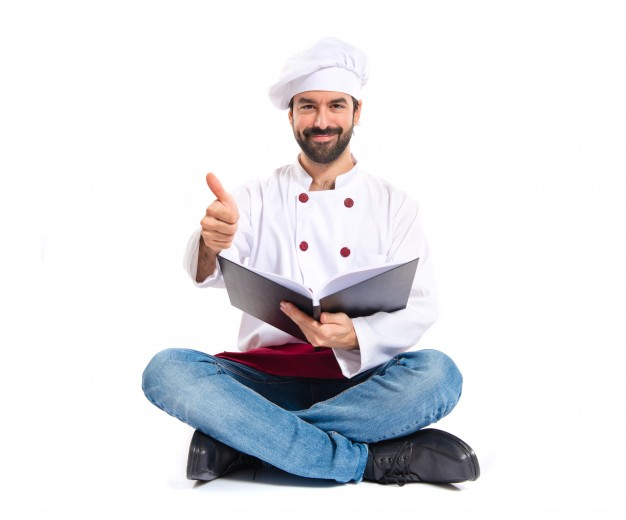thumbsup: (199, 171, 239, 250)
